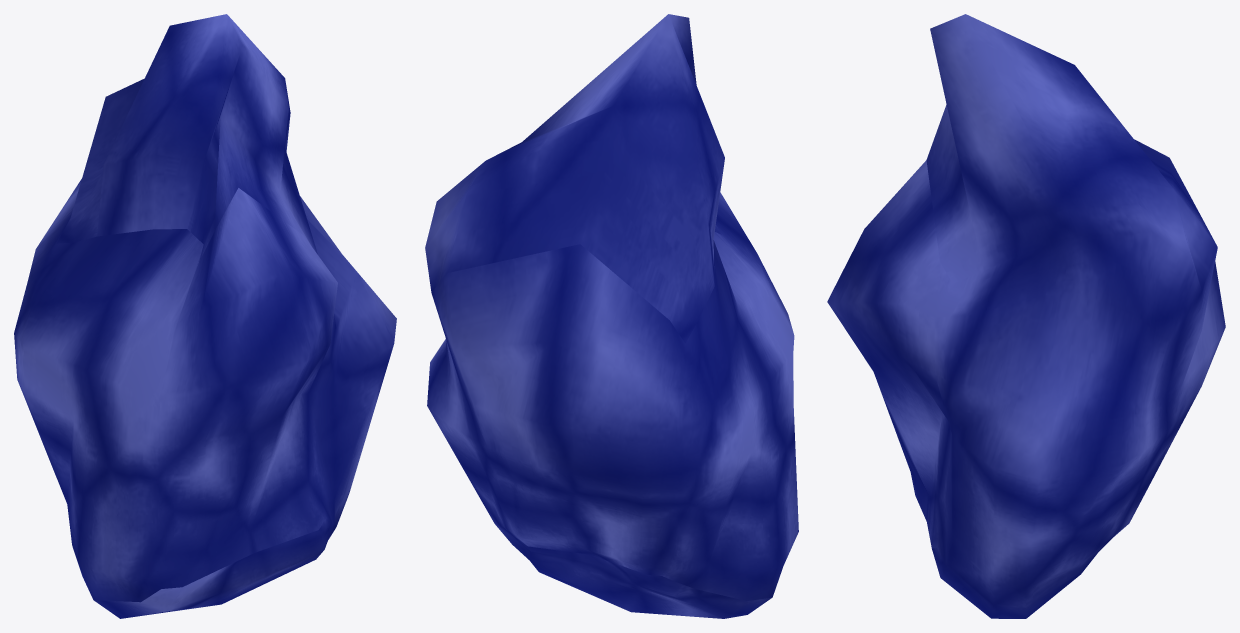
Rendered from mainEntranceCrystal.glb.
3 renders of one model, left to right at view 1: azimuth 30°, elevation 25°; view 2: azimuth 150°, elevation 25°; view 3: azimuth 270°, elevation 25°, orthographic. The views are drawn at different scales.
Parts seen in each view (by area): view 1: Blue; view 2: Blue; view 3: Blue.
Part boxes in pixels (<box>): Blue: <box>14,14,396,618</box>; Blue: <box>425,14,798,618</box>; Blue: <box>827,14,1225,618</box>.
Bounding box in the file's own units: 1.15 × 1.91 × 1.2.
1 material, 1 textured.
